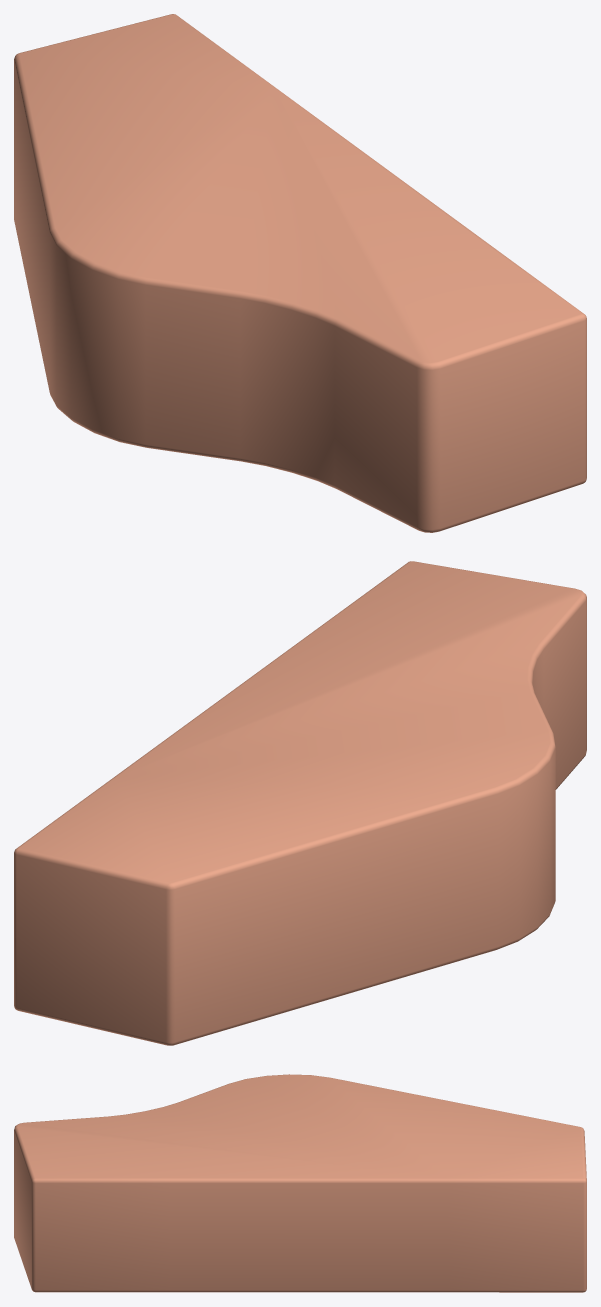
Rendered from island_lv12_1.fbx.
3 renders of one model, top to bottom at view 1: azimuth 30°, elevation 25°; view 2: azimuth 150°, elevation 25°; view 3: azimuth 270°, elevation 25°, orthographic. The views are drawn at different scales.
Parts seen in each view (by area): view 1: island_lv12_1; view 2: island_lv12_1; view 3: island_lv12_1.
Part boxes in pixels (<box>): island_lv12_1: <box>14,14,586,532</box>; island_lv12_1: <box>14,561,586,1045</box>; island_lv12_1: <box>14,1074,586,1292</box>.
Size of the model in its own units: 1007 by 500 by 2282.
